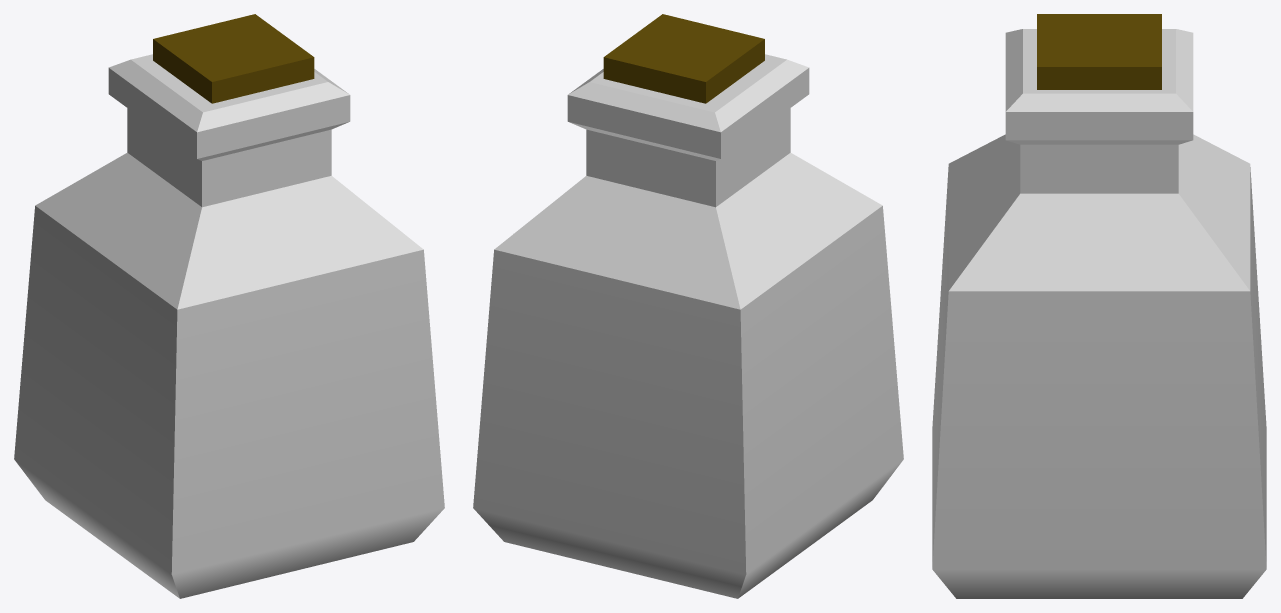
File: zehirsise.fbx
3 renders of one model, left to right at view 1: azimuth 30°, elevation 25°; view 2: azimuth 150°, elevation 25°; view 3: azimuth 270°, elevation 25°, orthographic. The views are drawn at different scales.
Parts seen in each view (by area): view 1: pCube2, pCube4; view 2: pCube2, pCube4; view 3: pCube2, pCube4.
Boxes of the visible parts, bbox=[...] form: pCube2: bbox=[14, 54, 444, 598]; pCube4: bbox=[153, 14, 314, 103]; pCube2: bbox=[473, 54, 903, 598]; pCube4: bbox=[603, 14, 764, 103]; pCube2: bbox=[932, 29, 1266, 598]; pCube4: bbox=[1037, 14, 1161, 89].
Size of the model in its own units: 0.8343 by 1.38 by 0.8343.
